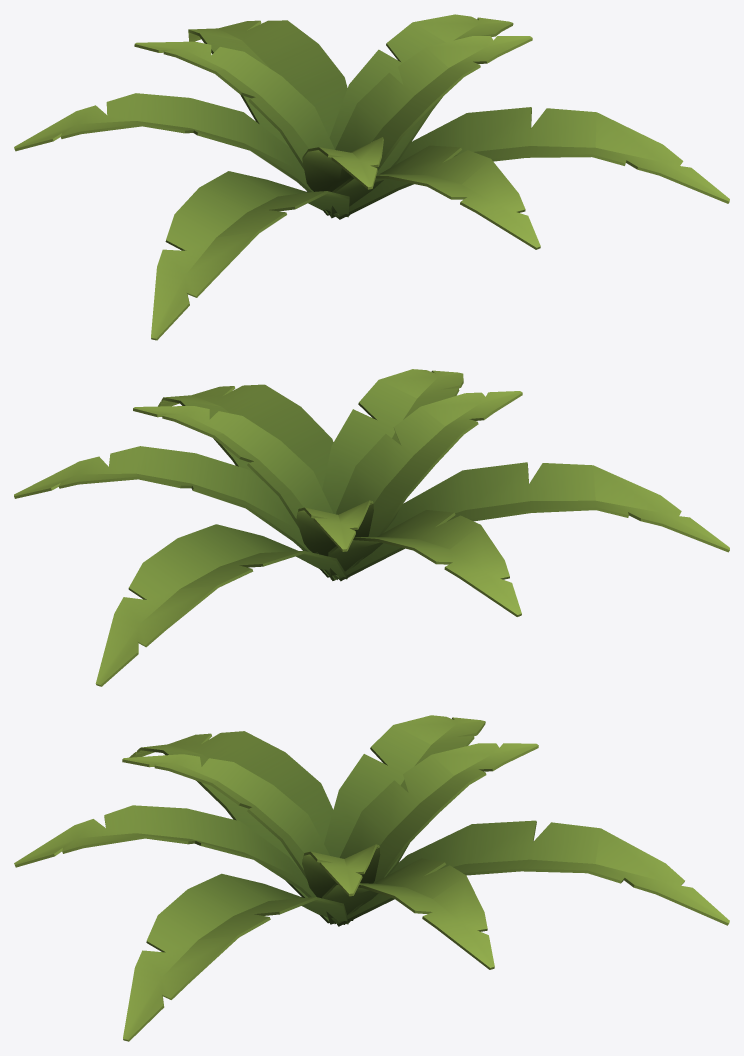
The model's file is Plant_01.fbx.
3 renders of one model, top to bottom at view 1: azimuth 30°, elevation 25°; view 2: azimuth 150°, elevation 25°; view 3: azimuth 270°, elevation 25°, orthographic.
Parts seen in each view (by area): view 1: Plant_01_LOD0; view 2: Plant_01_LOD0; view 3: Plant_01_LOD0.
Part boxes in pixels (x1,y1,x2,y2): Plant_01_LOD0: (14,14,729,340); Plant_01_LOD0: (14,369,729,686); Plant_01_LOD0: (14,715,729,1041).
Size of what is drawn, in the model's own units: 1.19 by 0.2606 by 1.27.
